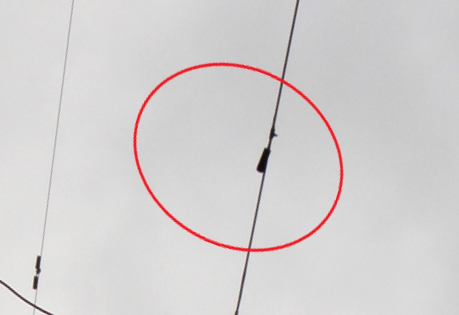damper: (31, 254, 43, 290)
damper_defect: (255, 121, 279, 174)
